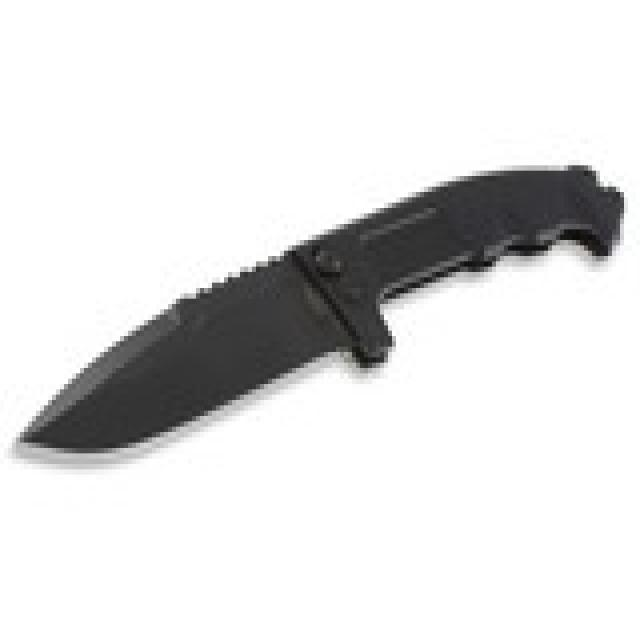Knife: (3, 153, 631, 489)
